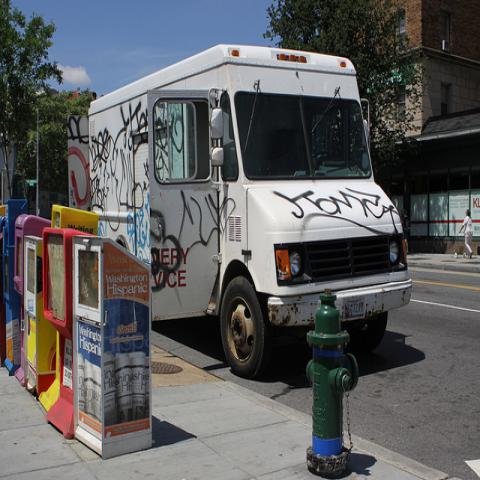truck: (88, 44, 412, 365)
